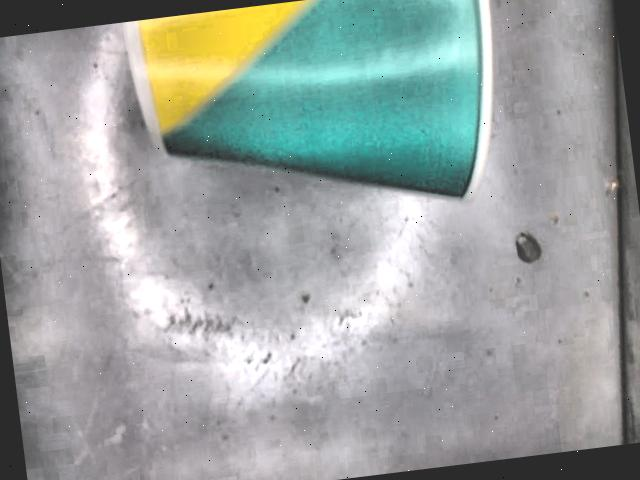Paper: (123, 0, 496, 202)
